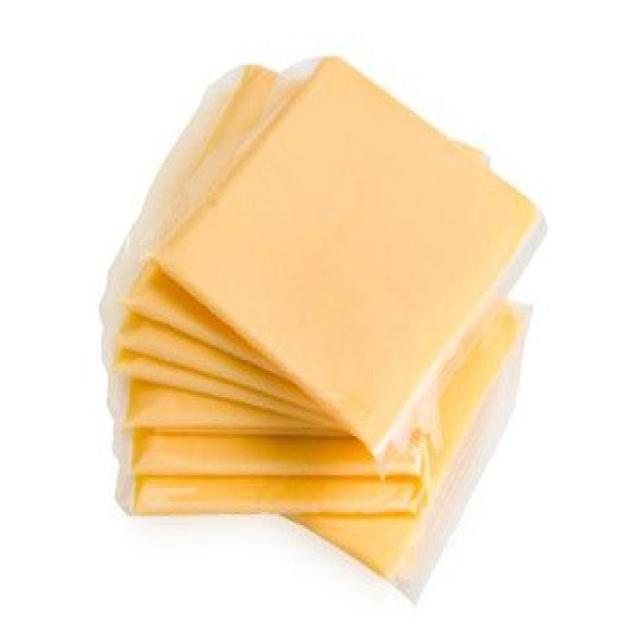Cheese: (112, 40, 570, 601)
